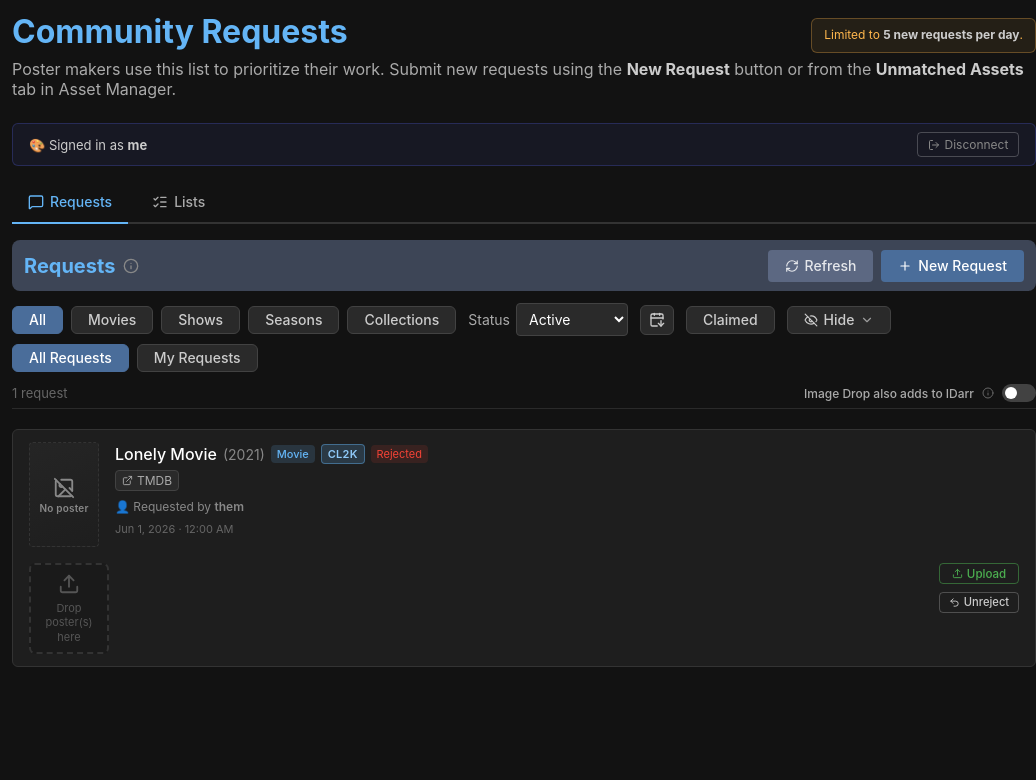
Test: Requests page: Unreject › puts a rejected request back to open, on the same card
The width and height of the screenshot is (1036, 780).
Check: the text "Lonely Movie" is shown, box [115,444,217,464]
Click the button "Unreject": x=979, y=602 [939,592,1019,613]
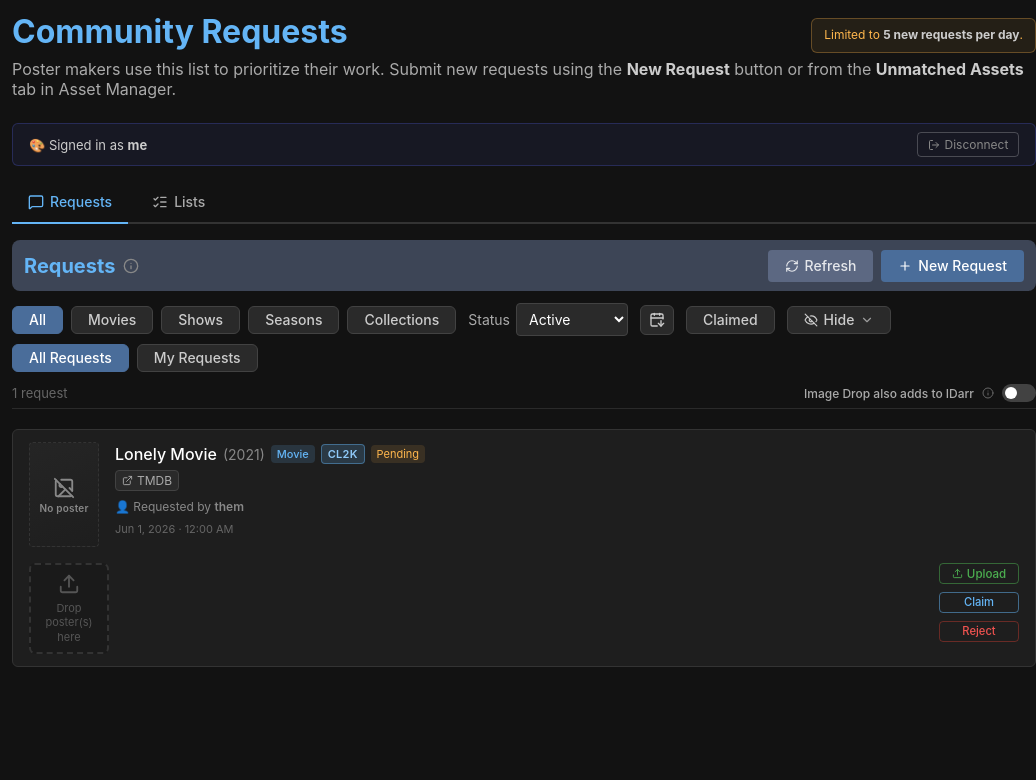
Check: the text "Lonely Movie" is shown, box [115,444,217,464]
Check: the button "Claim" is shown, box [939,592,1019,613]
Check: the button "Unreject" is gone
